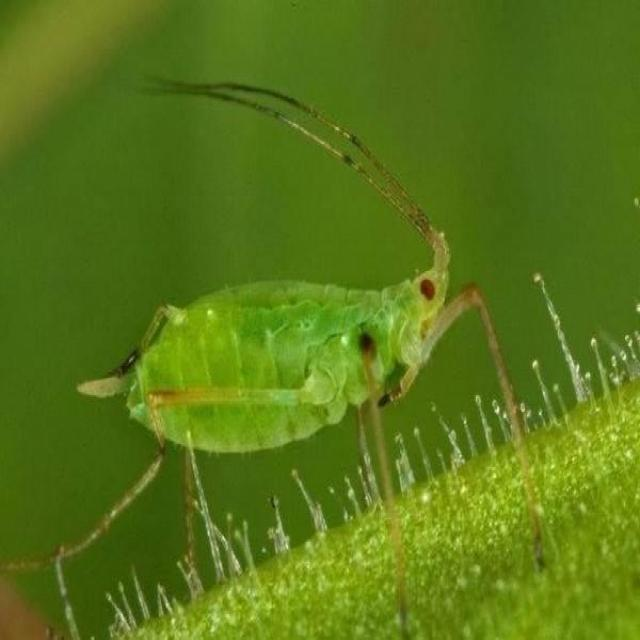Aphids: (39, 80, 532, 610)
